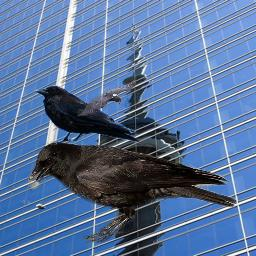Crow: (25, 141, 237, 243), (33, 85, 140, 145), (77, 80, 136, 117)
